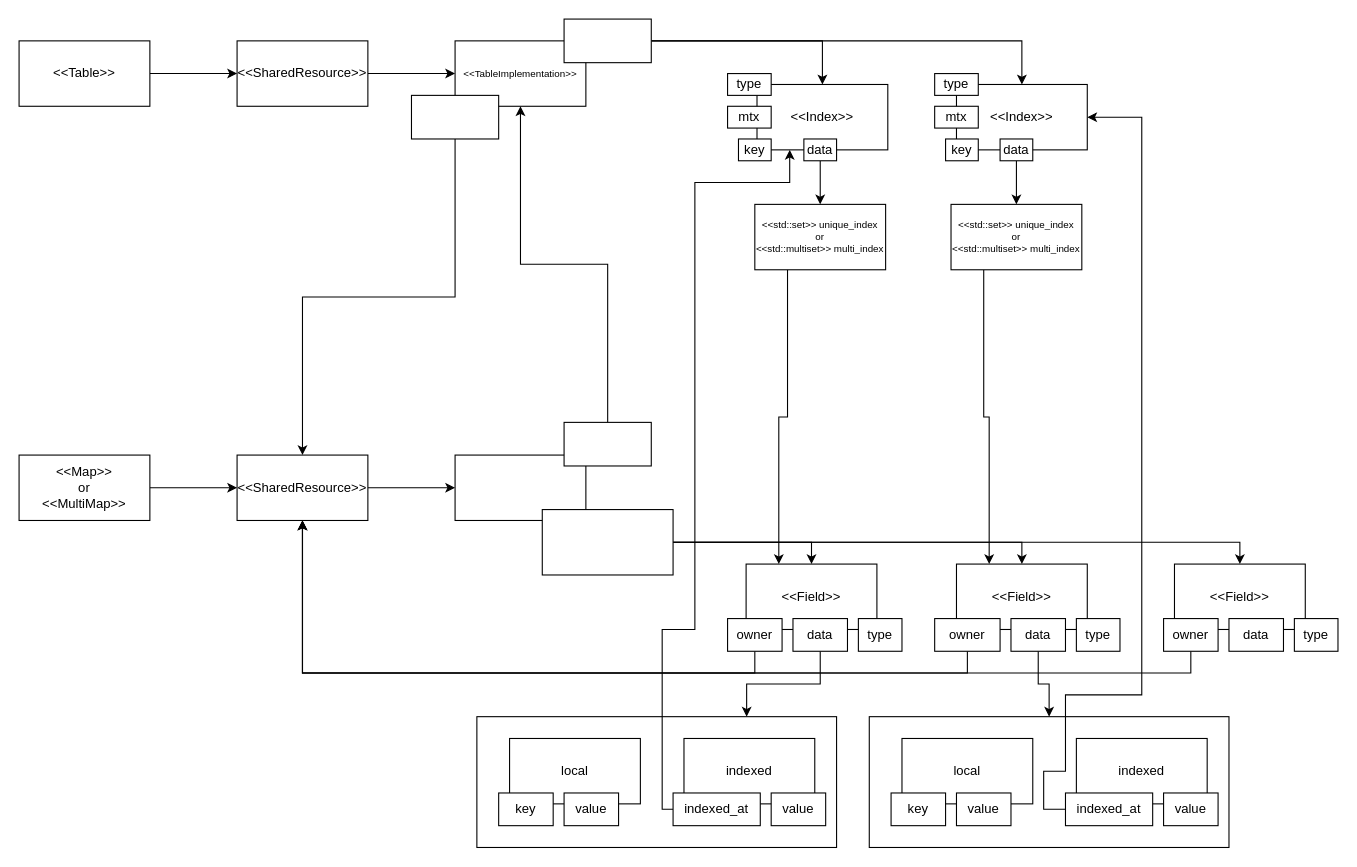
The diagram is 1357 pixels wide and 867 high, and some of its shapes have lost their labels. Each missing label, with the centre of its shape:
"<<MapImplementation>> or <<MultiMapImplementation>>" belongs at [520,487].
"<<std::set>> indexes" belongs at [607,40].
"<<std::set>> or <<std::multiset>> data" belongs at [607,541].
"<<std::set>> rows" belongs at [454,116].
"<<std::set>> table_list" belongs at [607,443].
